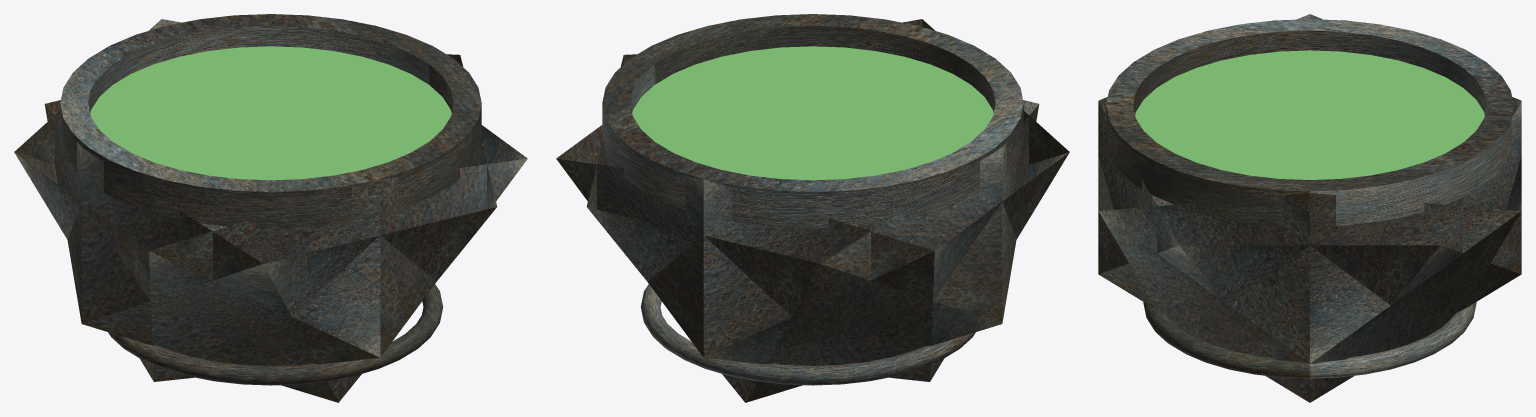
File: Cauldron.fbx
3 renders of one model, left to right at view 1: azimuth 30°, elevation 25°; view 2: azimuth 150°, elevation 25°; view 3: azimuth 270°, elevation 25°, orthographic. The views are drawn at different scales.
Parts seen in each view (by area): view 1: Cauldron, Disque, Tube, Tore_1; view 2: Cauldron, Disque, Tube, Tore_1; view 3: Cauldron, Disque, Tube, Tore_1.
Part boxes in pixels (x1,y1,x2,y2): Cauldron: (14,19,527,402); Disque: (90,46,451,180); Tube: (60,14,481,228); Tore_1: (108,284,442,385); Cauldron: (556,19,1069,402); Disque: (632,46,993,180); Tube: (602,14,1023,228); Tore_1: (641,284,975,385); Cauldron: (1098,14,1521,402); Disque: (1135,50,1484,179); Tube: (1106,19,1513,225); Tore_1: (1143,302,1476,378).
Size of the model in its own units: 162 by 104 by 162.
Materials: 2 (1 with a texture image).
